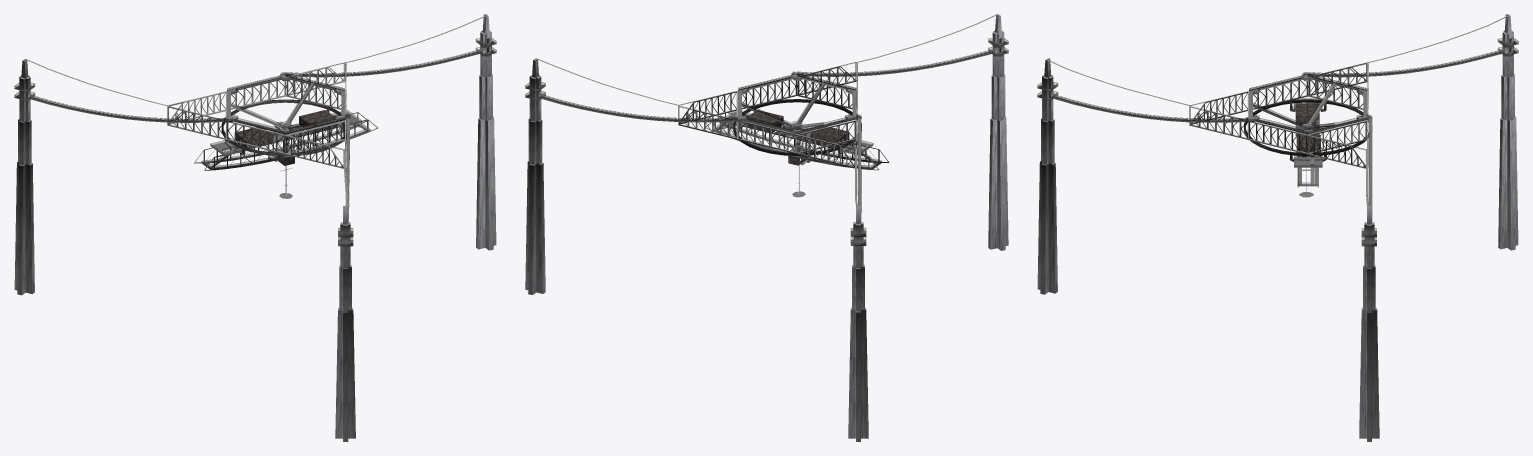
File: Cradle.glb
The picture shows the model from 3 angles, left to right: view 1: azimuth 30°, elevation 25°; view 2: azimuth 150°, elevation 25°; view 3: azimuth 270°, elevation 25°; orthographic projection.
Parts seen in each view (by area): view 1: Cradle_42, Cradle_Alpha_45, Cradle_Alpha_5, Cradle_Alpha_49, Cradle_44, Cradle_1, Cradle_47, Cradle_0, Cradle_2, Cradle_22, Cradle_Alpha_51, Cradle_6; view 2: Cradle_42, Cradle_Alpha_45, Cradle_Alpha_5, Cradle_Alpha_49, Cradle_44, Cradle_1, Cradle_47, Cradle_0, Cradle_2, Cradle_22, Cradle_Alpha_51, Cradle_6; view 3: Cradle_42, Cradle_Alpha_45, Cradle_Alpha_49, Cradle_44, Cradle_Alpha_5, Cradle_1, Cradle_47, Cradle_22, Cradle_0, Cradle_Alpha_51, Cradle_6.
Boxes of the visible parts, <box> form: Cradle_42: <box>14,14,496,441</box>; Cradle_Alpha_45: <box>168,68,346,167</box>; Cradle_Alpha_5: <box>14,38,496,246</box>; Cradle_Alpha_49: <box>30,50,479,218</box>; Cradle_44: <box>167,66,346,168</box>; Cradle_1: <box>211,75,361,167</box>; Cradle_47: <box>30,52,479,173</box>; Cradle_0: <box>31,53,478,222</box>; Cradle_2: <box>194,112,377,170</box>; Cradle_22: <box>221,100,346,156</box>; Cradle_Alpha_51: <box>26,15,485,205</box>; Cradle_6: <box>231,79,341,161</box>; Cradle_42: <box>525,14,1008,441</box>; Cradle_Alpha_45: <box>679,67,857,166</box>; Cradle_Alpha_5: <box>525,38,1008,245</box>; Cradle_Alpha_49: <box>541,50,992,221</box>; Cradle_44: <box>678,66,857,168</box>; Cradle_1: <box>719,74,876,163</box>; Cradle_47: <box>541,52,992,133</box>; Cradle_0: <box>542,53,990,205</box>; Cradle_2: <box>705,112,889,170</box>; Cradle_22: <box>733,99,861,155</box>; Cradle_Alpha_51: <box>537,14,996,205</box>; Cradle_6: <box>742,78,852,165</box>; Cradle_42: <box>1037,14,1518,441</box>; Cradle_Alpha_45: <box>1191,68,1368,167</box>; Cradle_Alpha_49: <box>1053,50,1502,221</box>; Cradle_44: <box>1189,66,1368,168</box>; Cradle_Alpha_5: <box>1037,38,1518,246</box>; Cradle_1: <box>1248,75,1372,184</box>; Cradle_47: <box>1053,52,1502,134</box>; Cradle_22: <box>1244,100,1368,156</box>; Cradle_0: <box>1054,53,1500,205</box>; Cradle_Alpha_51: <box>1048,15,1507,205</box>; Cradle_6: <box>1253,79,1363,132</box>.
Bounding box in the file's own units: 540 × 291 × 549.
Materials: 53 (52 with a texture image).
